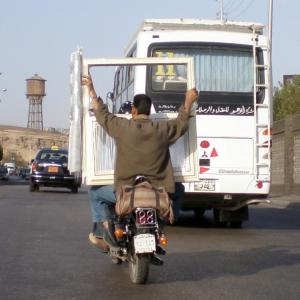Vehicle-registration-plate: (196, 180, 216, 193)
